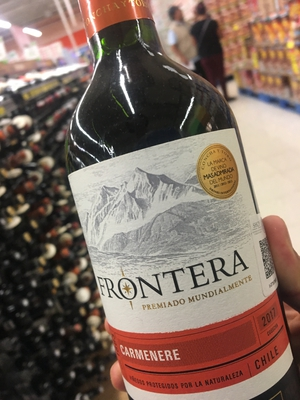frontera cabernet sauvignon: (64, 28, 292, 400)
